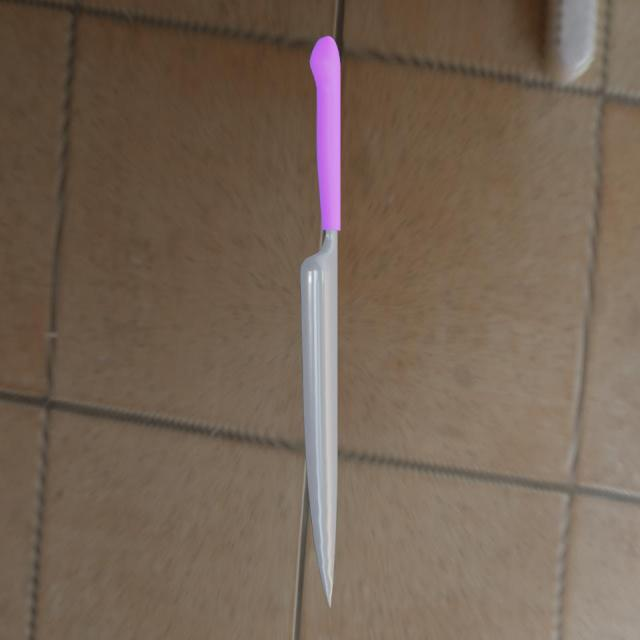knife: (310, 36, 341, 234)
